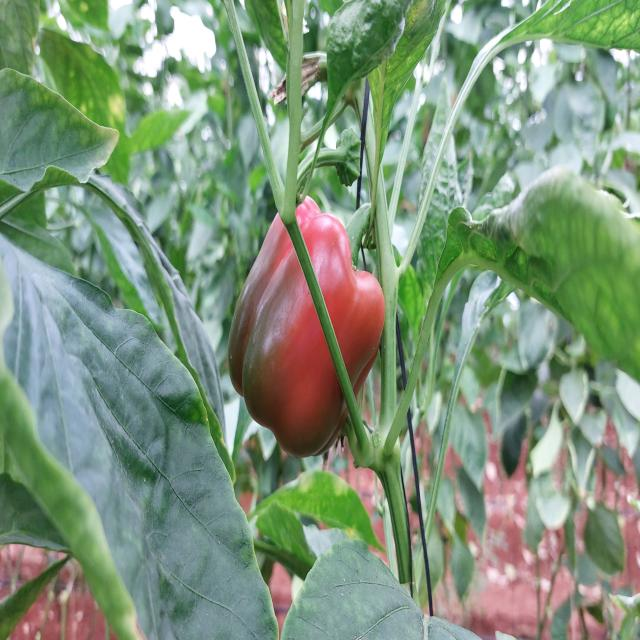BrownishRed--Can-be-Harvested: (222, 165, 393, 467)
